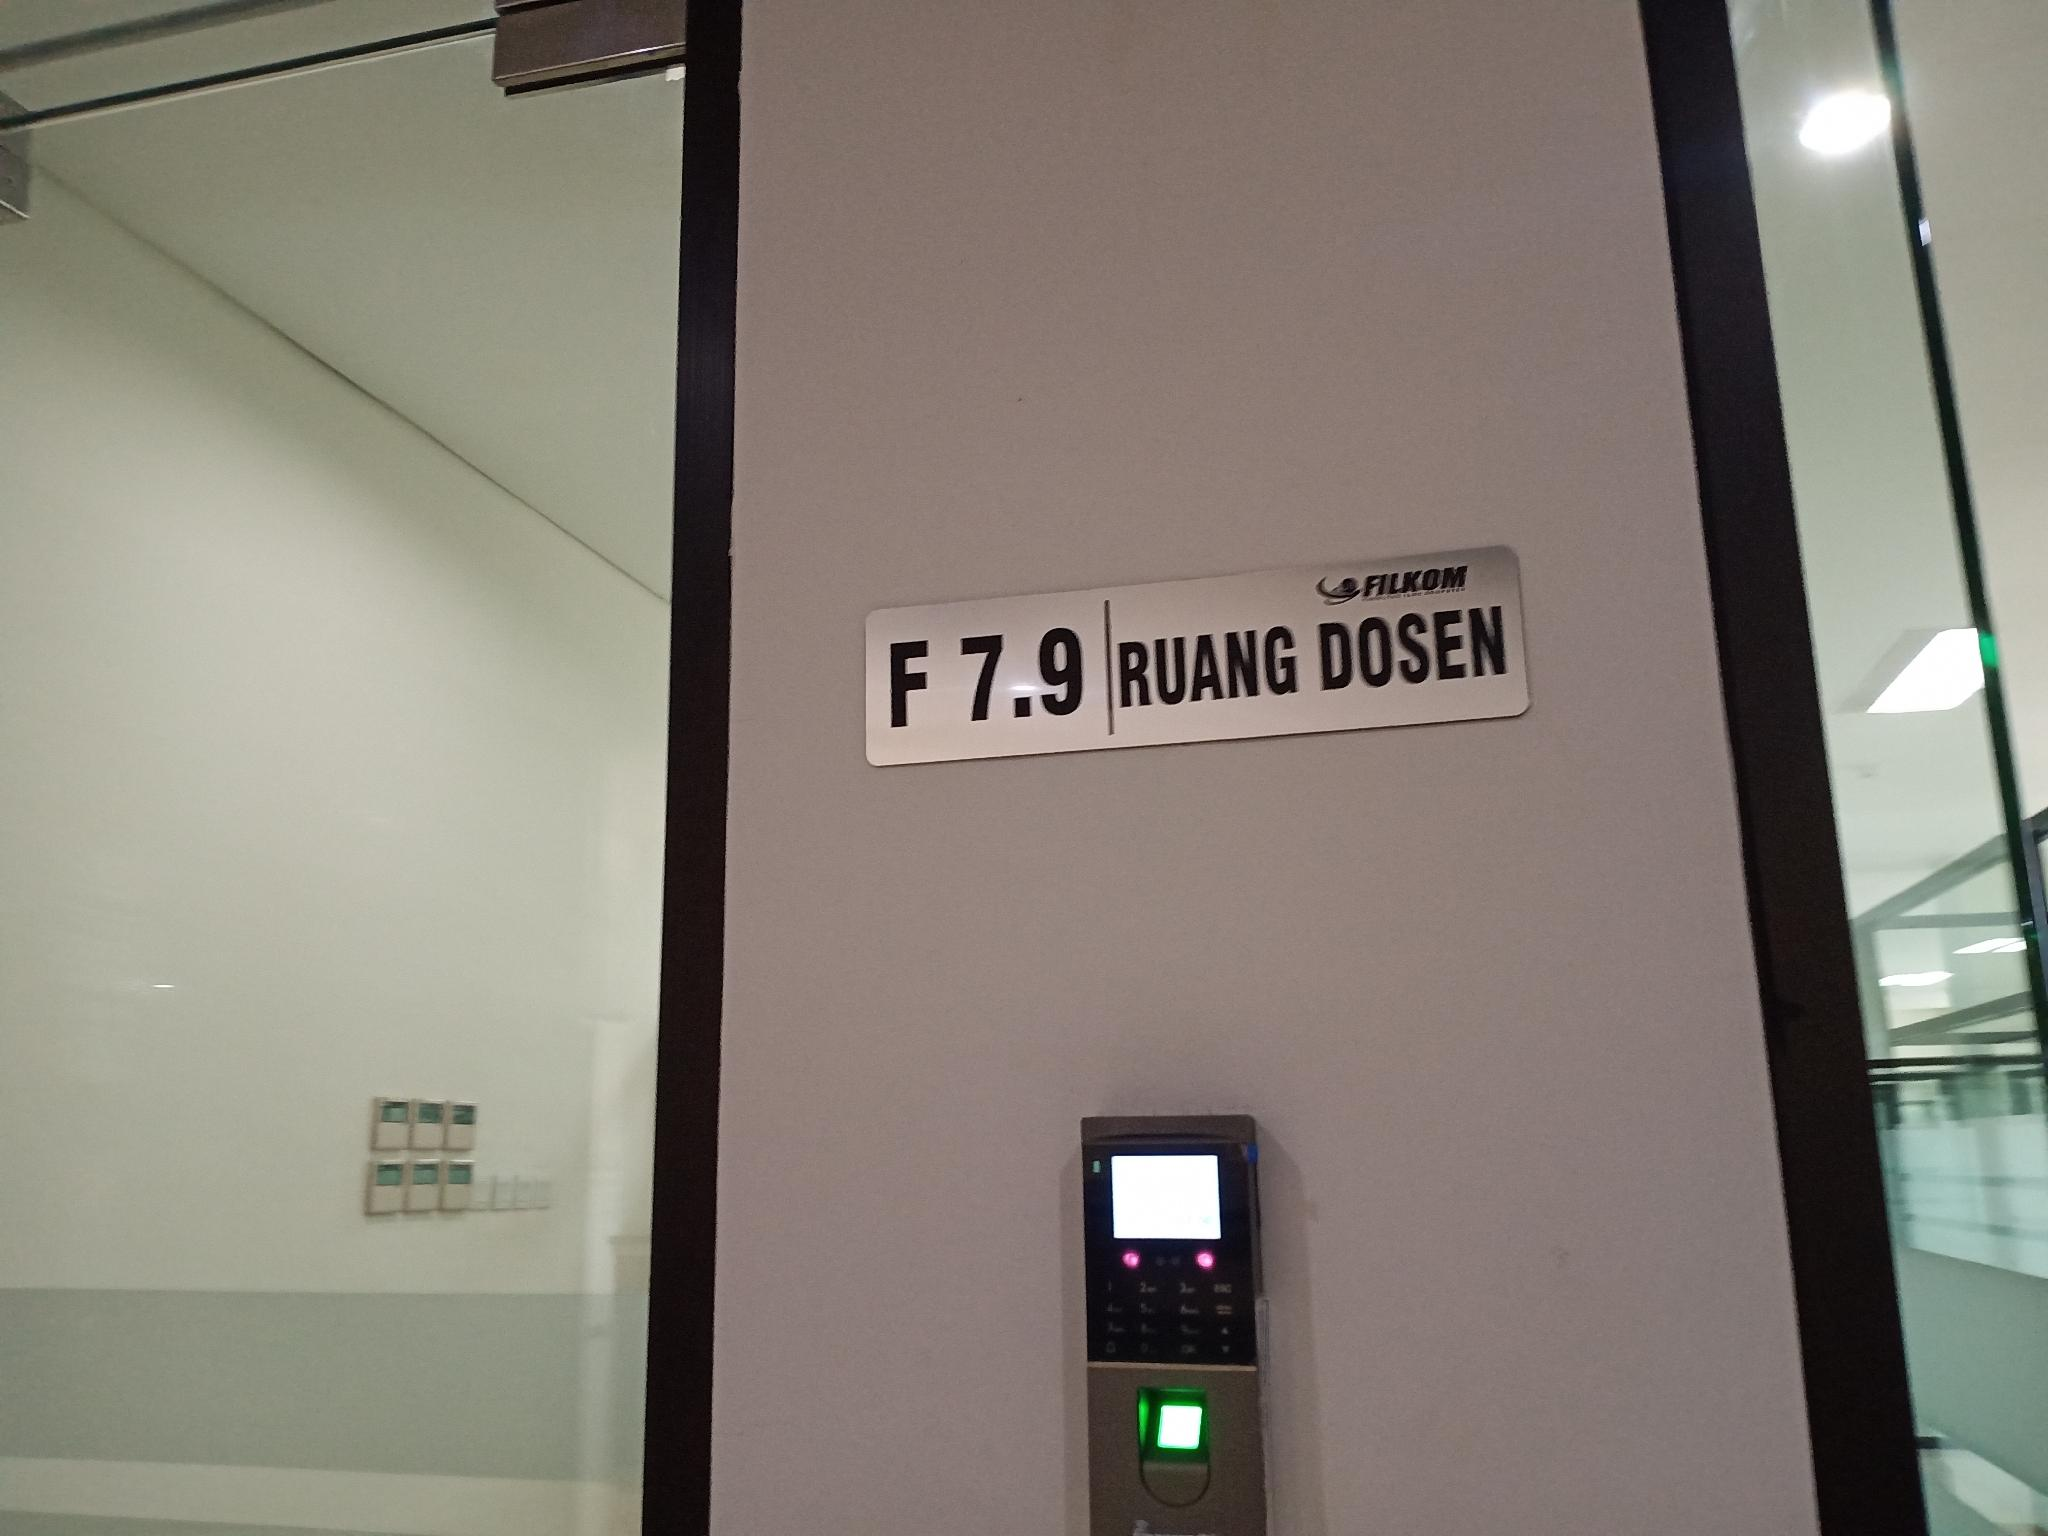plate: (861, 544, 1540, 774)
